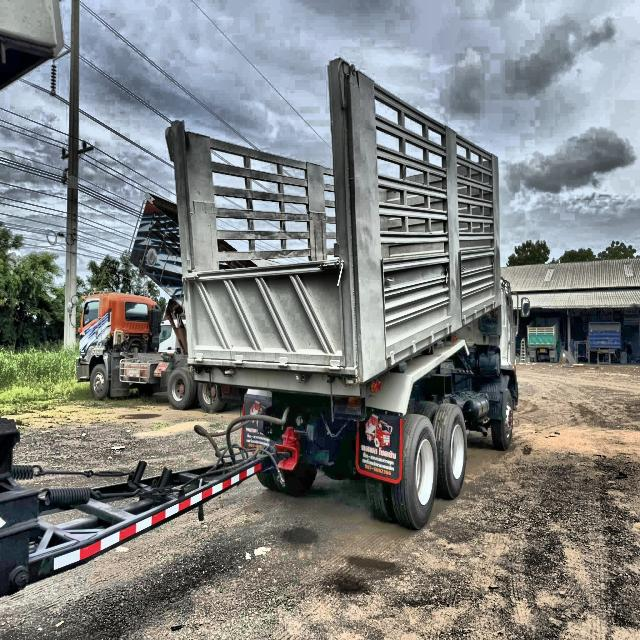trailer: (0, 58, 516, 602)
